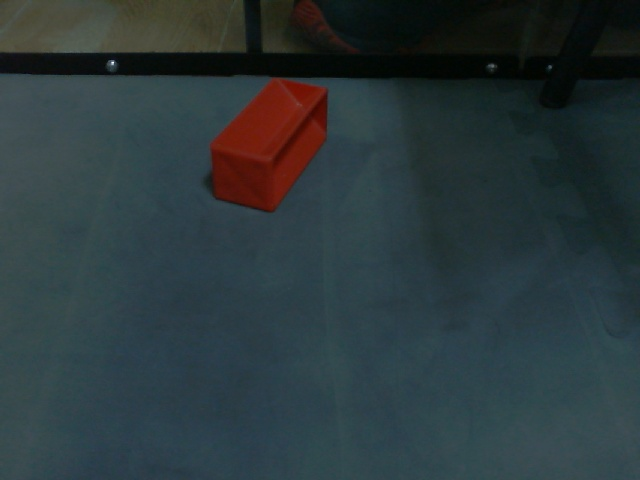RedSample: (208, 75, 330, 216)
